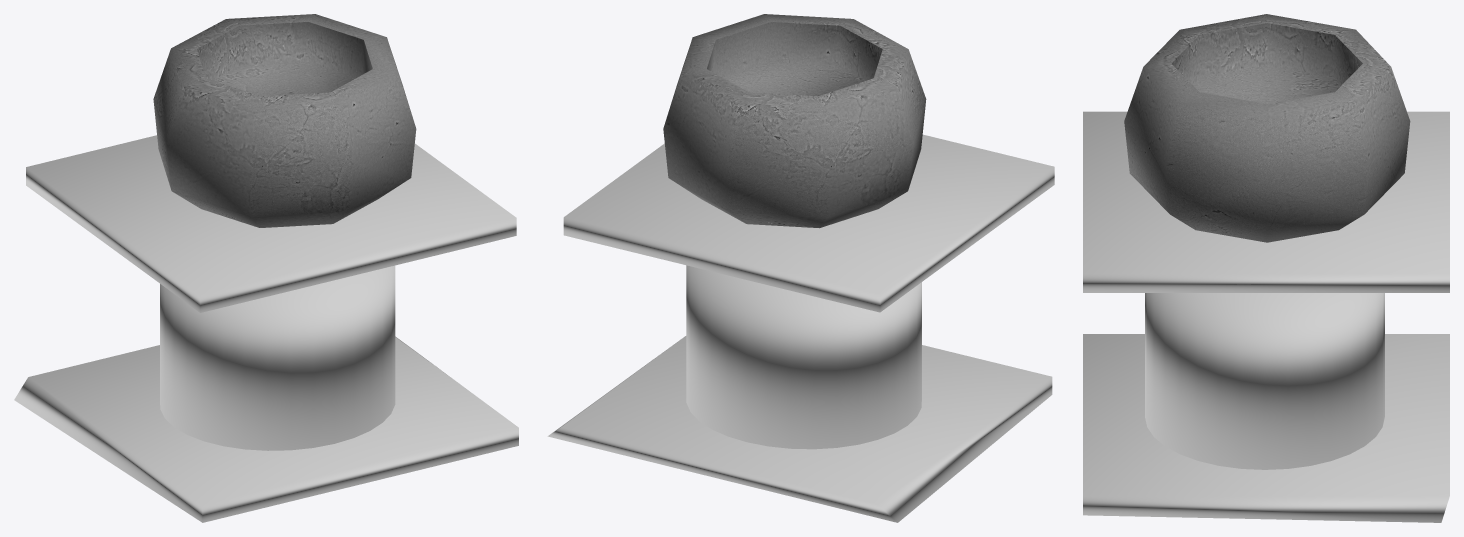
Rendered from POT.FBX.
3 renders of one model, left to right at view 1: azimuth 30°, elevation 25°; view 2: azimuth 150°, elevation 25°; view 3: azimuth 270°, elevation 25°, orthographic. The views are drawn at different scales.
Parts seen in each view (by area): view 1: default, Empty_Mesh; view 2: default, Empty_Mesh; view 3: default, Empty_Mesh.
Boxes of the visible parts, <box> form: default: <box>14,135,518,522</box>; Empty_Mesh: <box>153,14,416,227</box>; default: <box>547,134,1054,522</box>; Empty_Mesh: <box>663,14,926,228</box>; default: <box>1083,111,1449,522</box>; Empty_Mesh: <box>1124,14,1410,242</box>.
Bounding box in the file's own units: 21.23 × 20.68 × 18.25.
